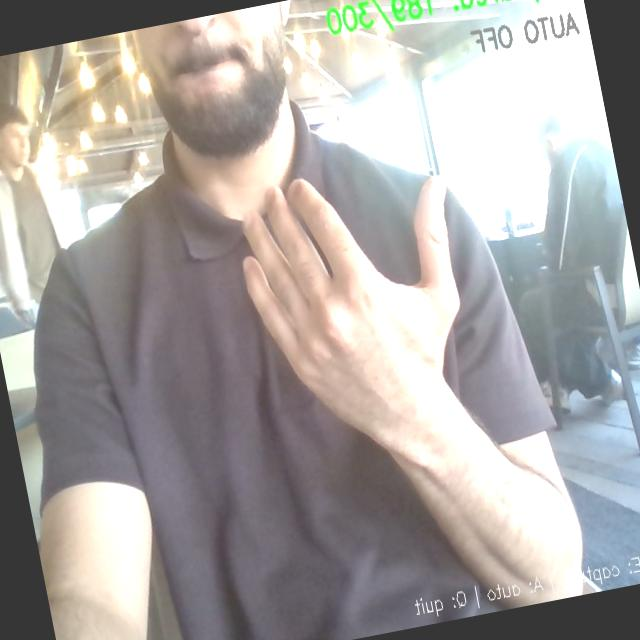Hand: (243, 178, 459, 447)
